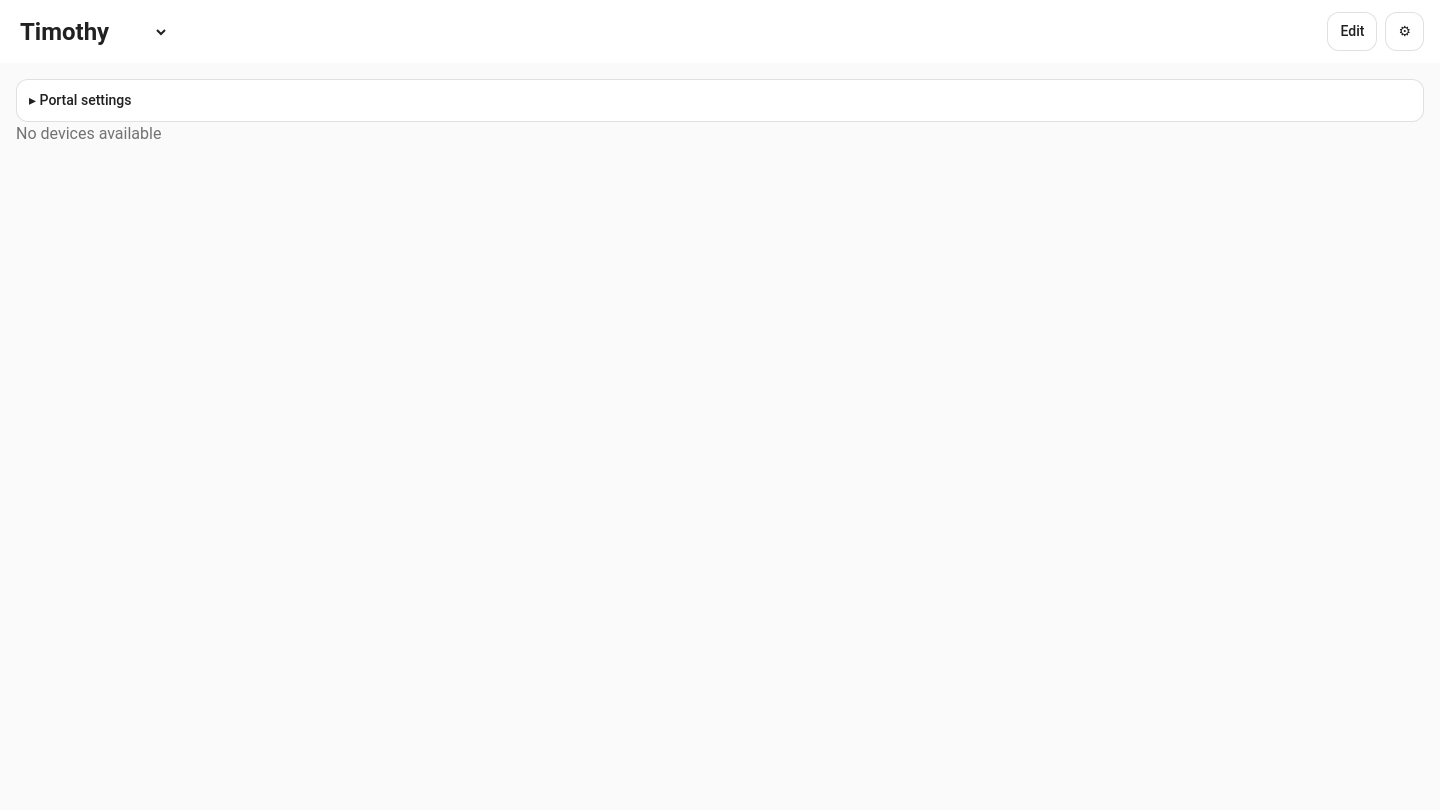
Test case: App › adds the new portal to the dropdown and selects it after using + Add portal
The image size is (1440, 810).
Select "+ Add portal" in the dropdown named "portal" at (92, 32), box [16,16,169,46]
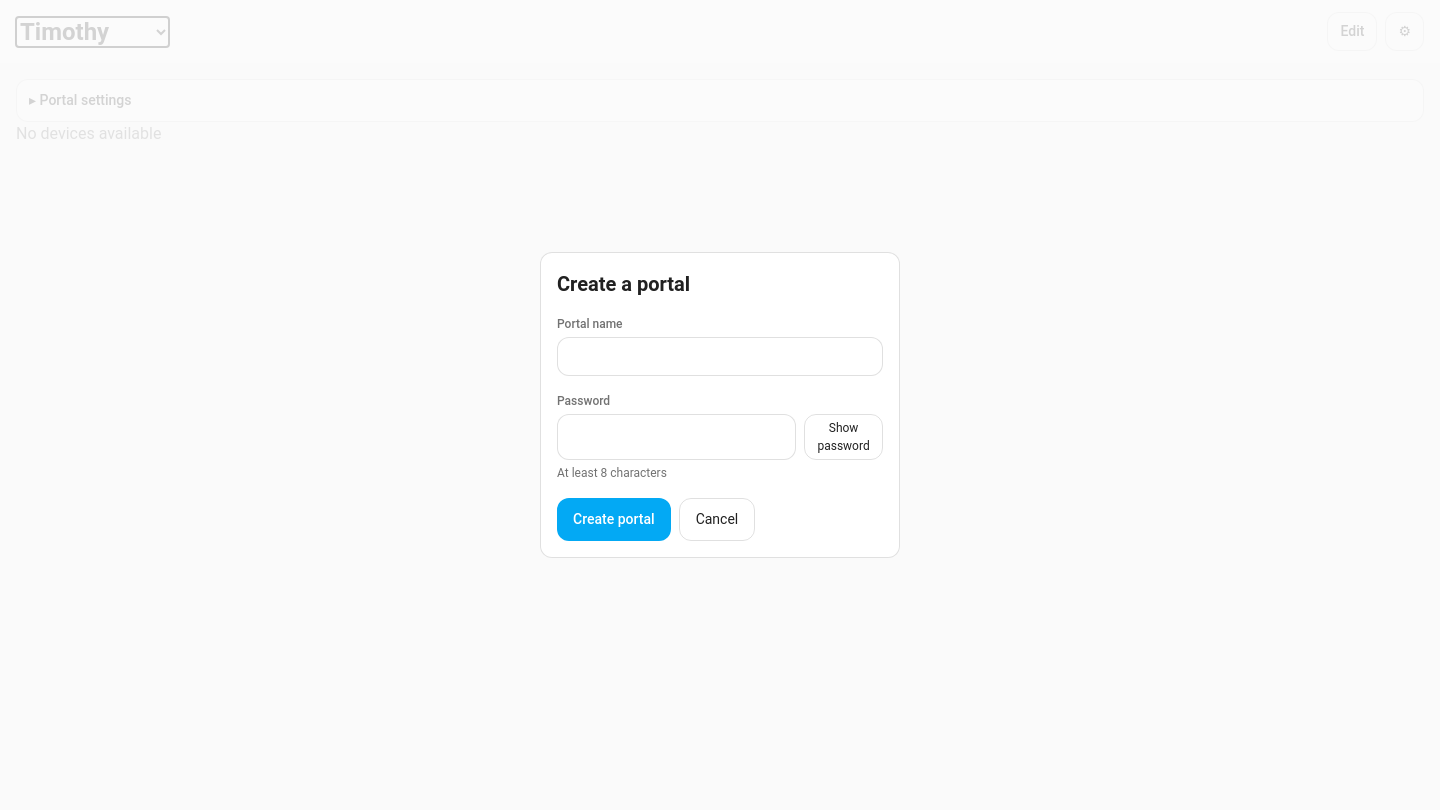
Type "Mary" into the field labelled "Portal name" at (720, 356), box [557,337,883,376]
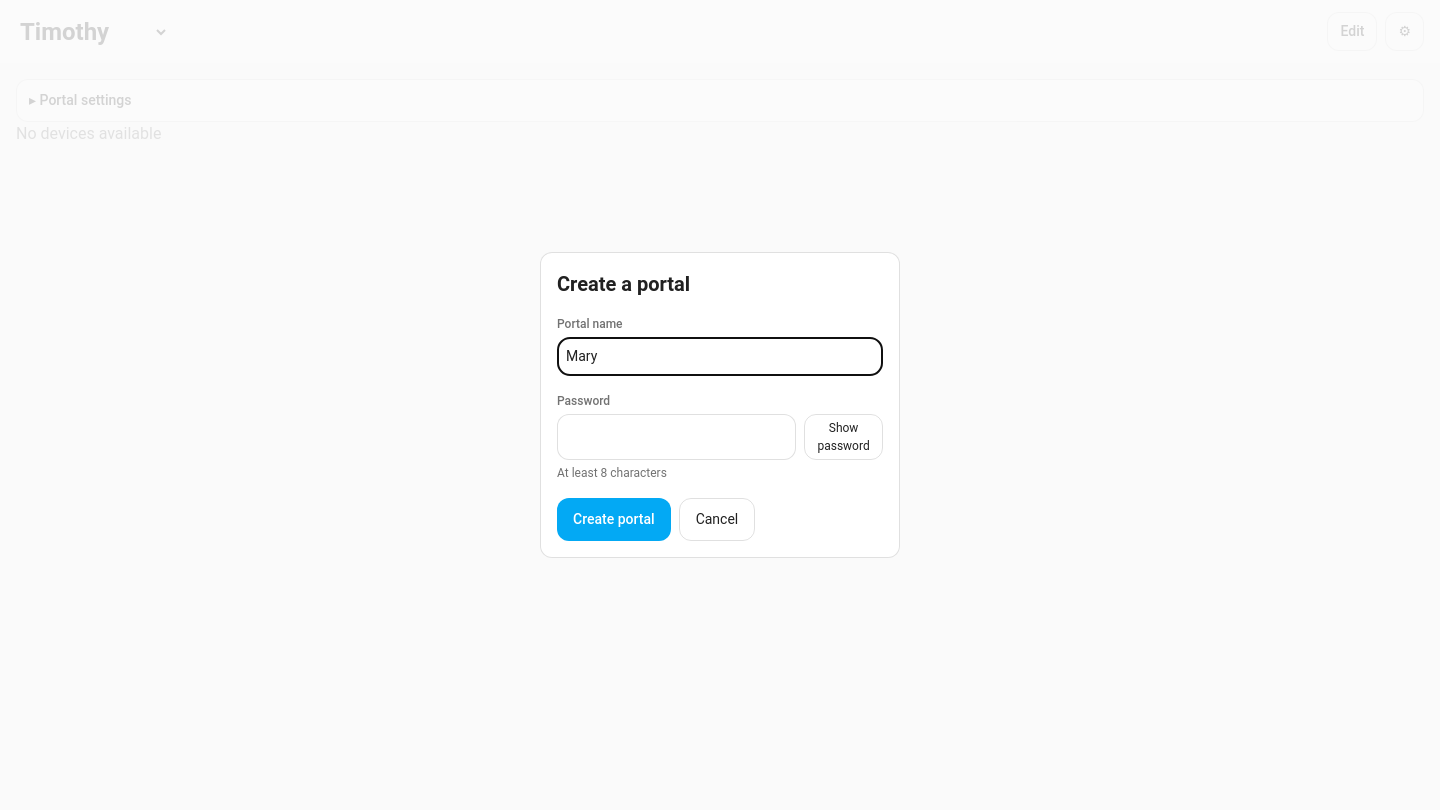
Type "mary-pass" into the password field labelled "Password" at (677, 437), box [557,414,796,460]
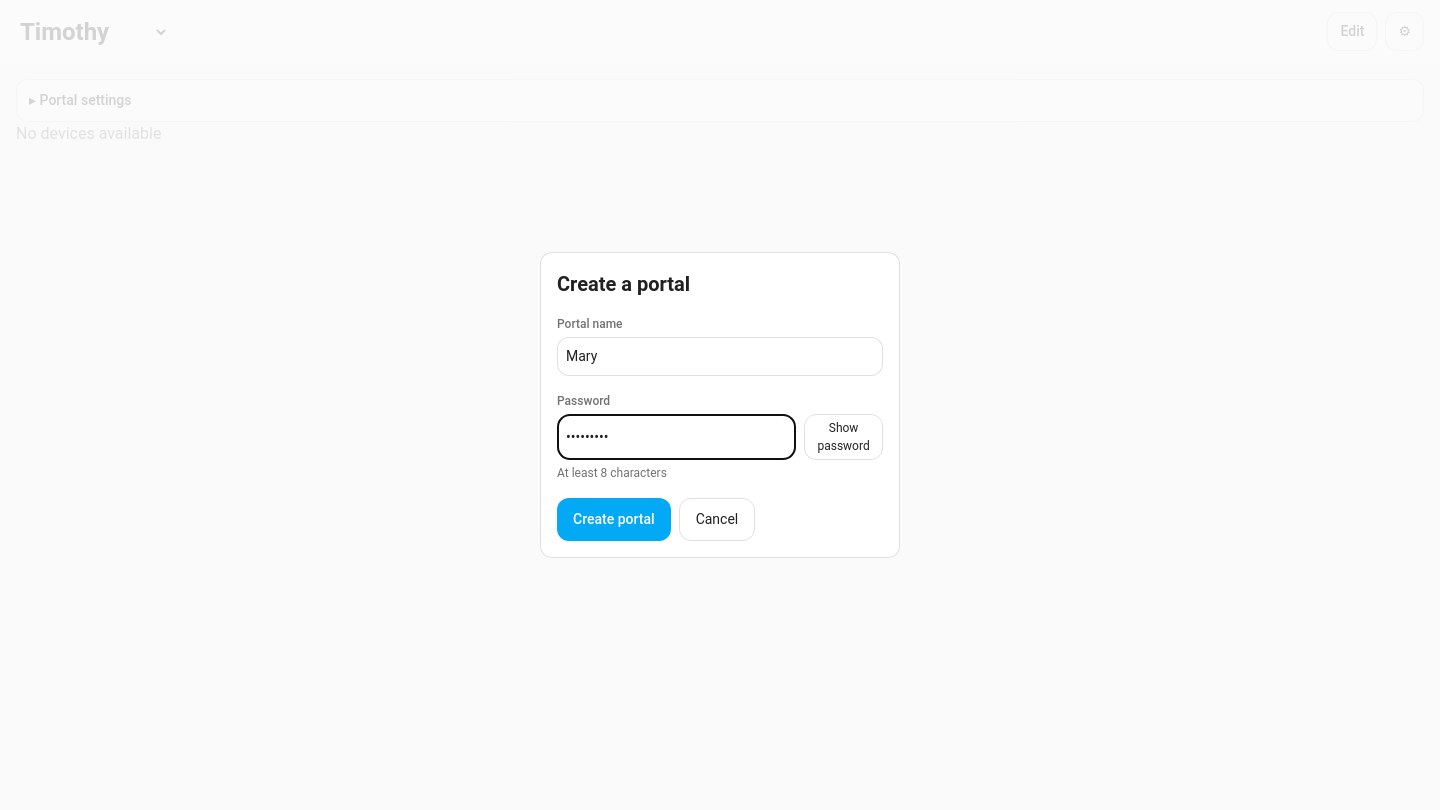
Click the button "Create portal" at (614, 520), box [557,498,671,541]
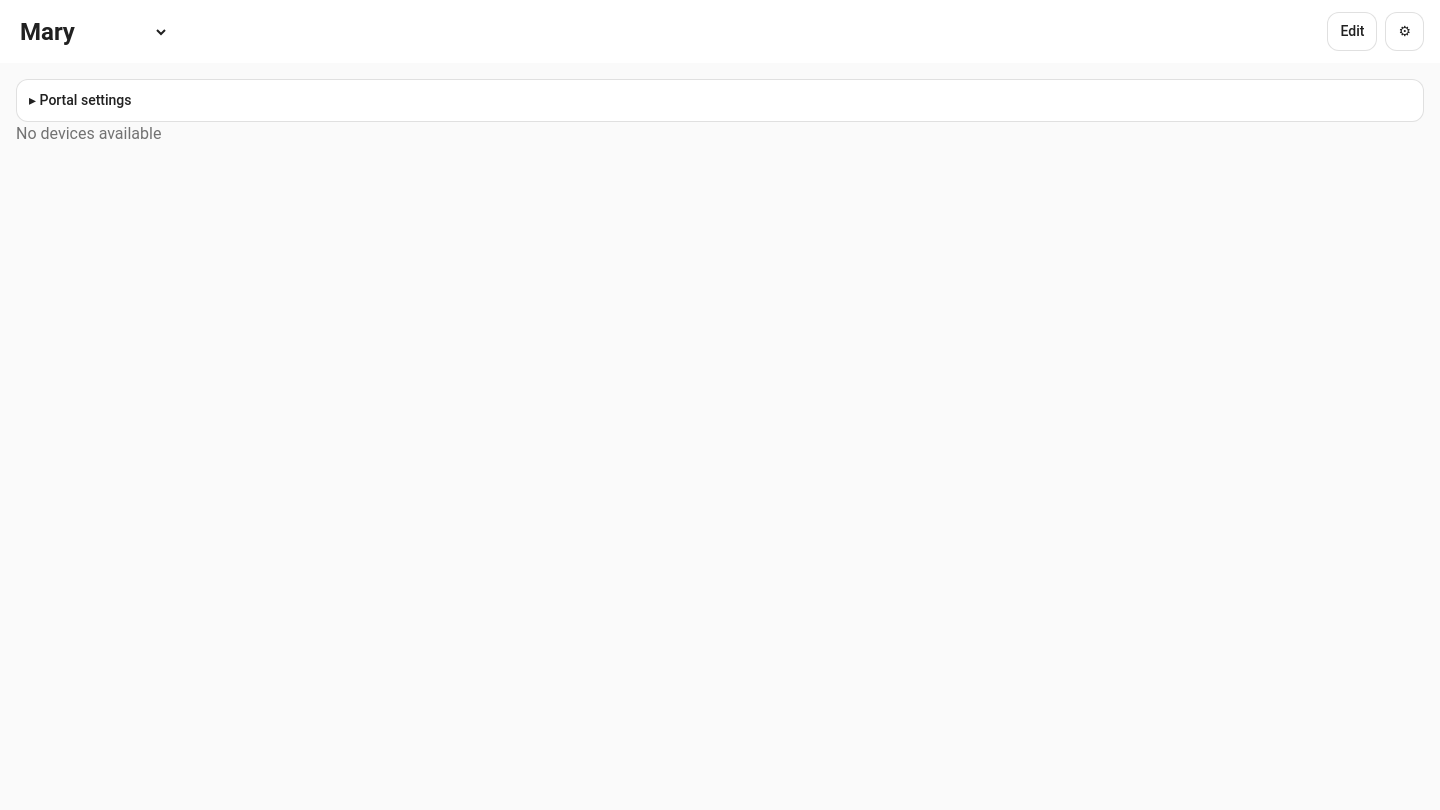
Now the heading "Create a portal" is gone
